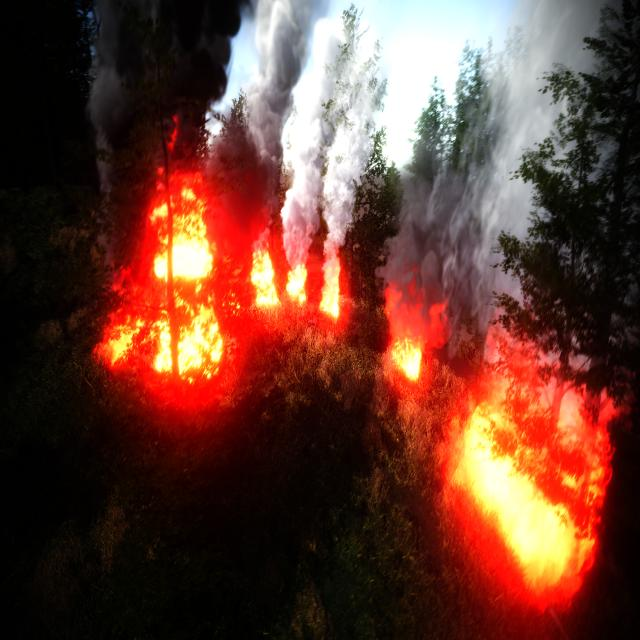Human: (305, 310, 319, 334)
